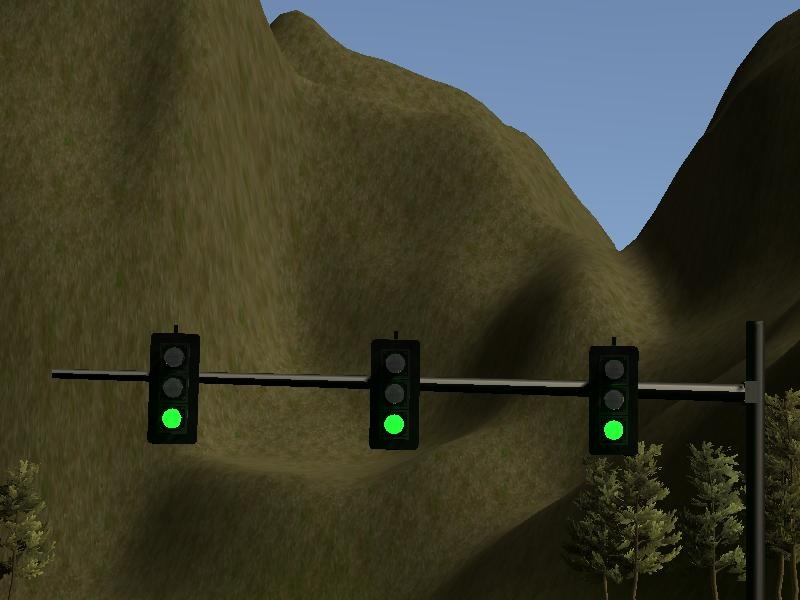Green: (590, 346, 637, 454), (372, 340, 413, 451), (153, 333, 191, 445)
